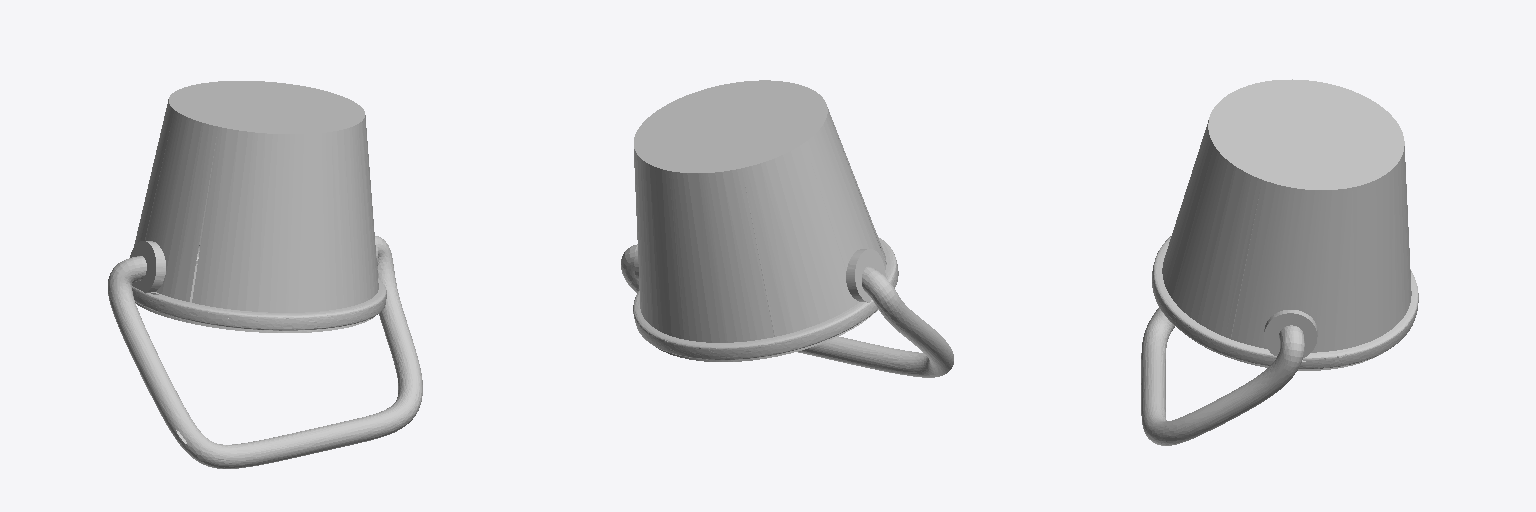
File: bucket.obj
3 renders of one model, left to right at view 1: azimuth 30°, elevation 25°; view 2: azimuth 150°, elevation 25°; view 3: azimuth 270°, elevation 25°, orthographic.
Visible parts, largest first — view 1: bucket_Buckethead_Zombie_without_base.001; view 2: bucket_Buckethead_Zombie_without_base.001; view 3: bucket_Buckethead_Zombie_without_base.001.
Part boxes in pixels (bbox=[...]): bucket_Buckethead_Zombie_without_base.001: bbox=[108, 81, 422, 468]; bucket_Buckethead_Zombie_without_base.001: bbox=[621, 80, 953, 377]; bucket_Buckethead_Zombie_without_base.001: bbox=[1141, 79, 1418, 445].
Size of the model in its own units: 47.97 by 48.87 by 41.11.